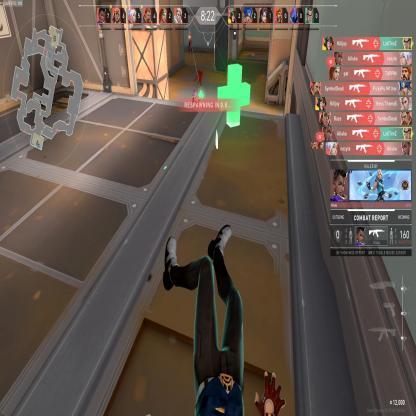enemy: (187, 30, 193, 54)
